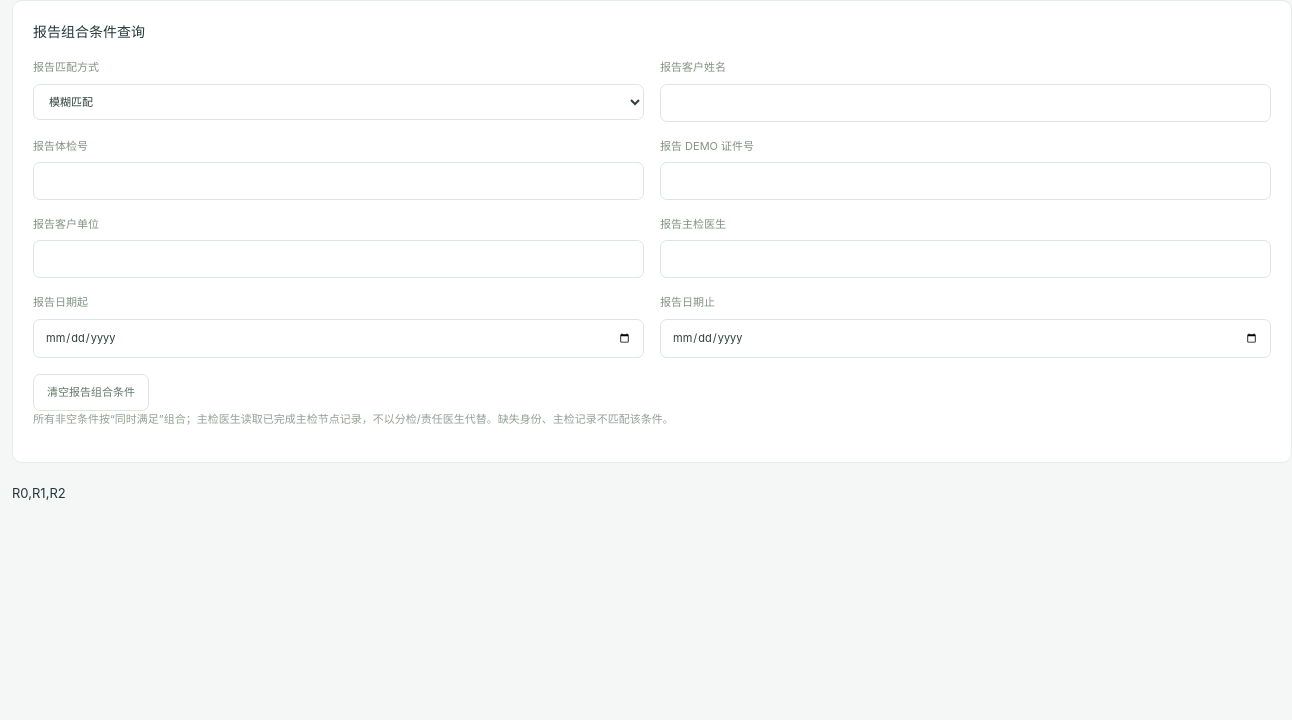
Test case: T0336/T0340/T0350 exact and fuzzy report queries › search controls update a real list, clear filters and show invalid date ranges
Type "TWO" into the field labelled "报告 DEMO 证件号" at (966, 181), box x1=660 y1=162 x2=1271 y2=200
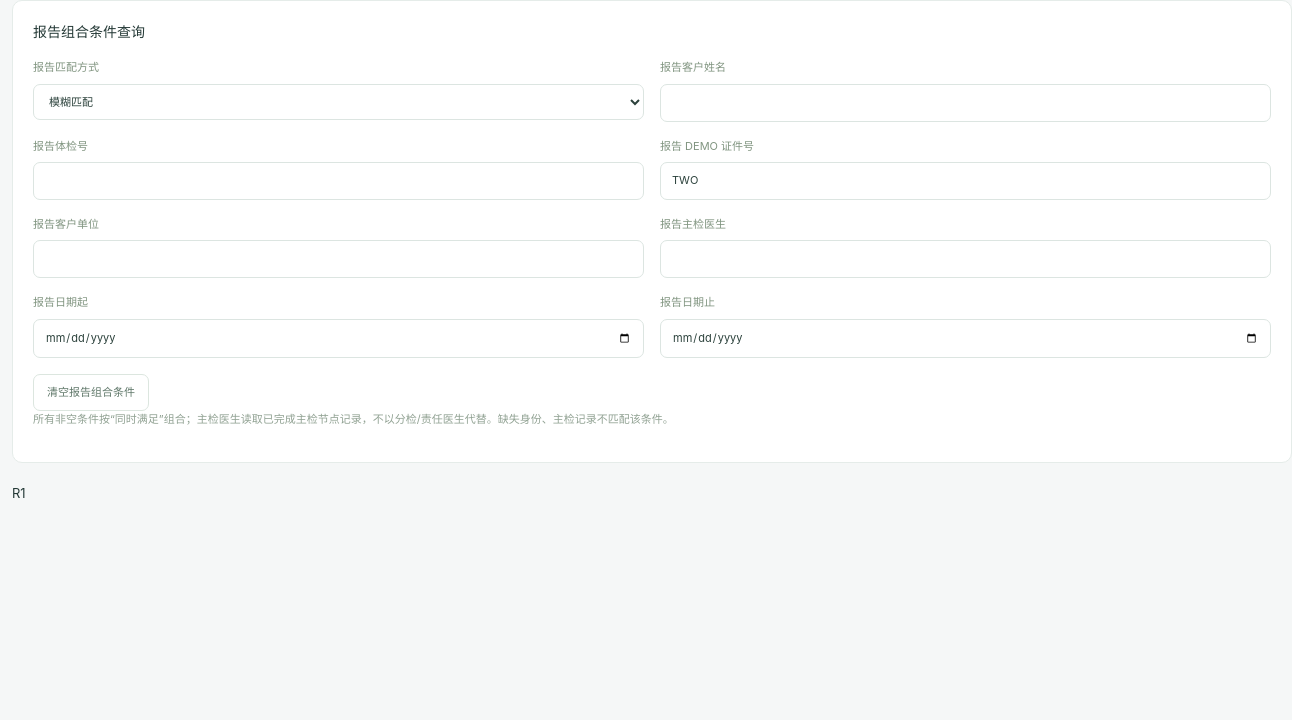
Expected: the text with test id "matches" reads "R1", x1=12 y1=485 x2=26 y2=501
Expected: the text with test id "matches" no longer shows "R0", x1=12 y1=485 x2=26 y2=501
Select "精准匹配" in the dropdown labelled "报告匹配方式" at (338, 102), box x1=33 y1=84 x2=644 y2=120
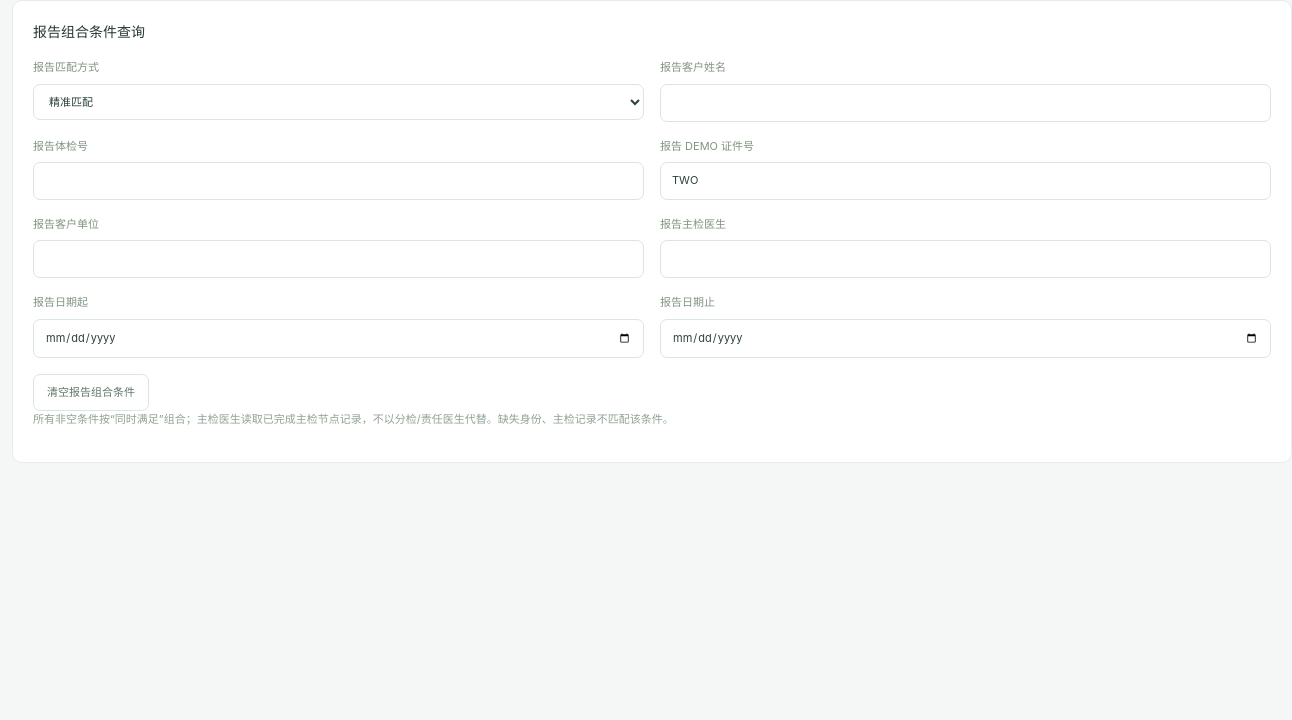
Click the button "清空报告组合条件" at (91, 392), box x1=33 y1=374 x2=149 y2=411
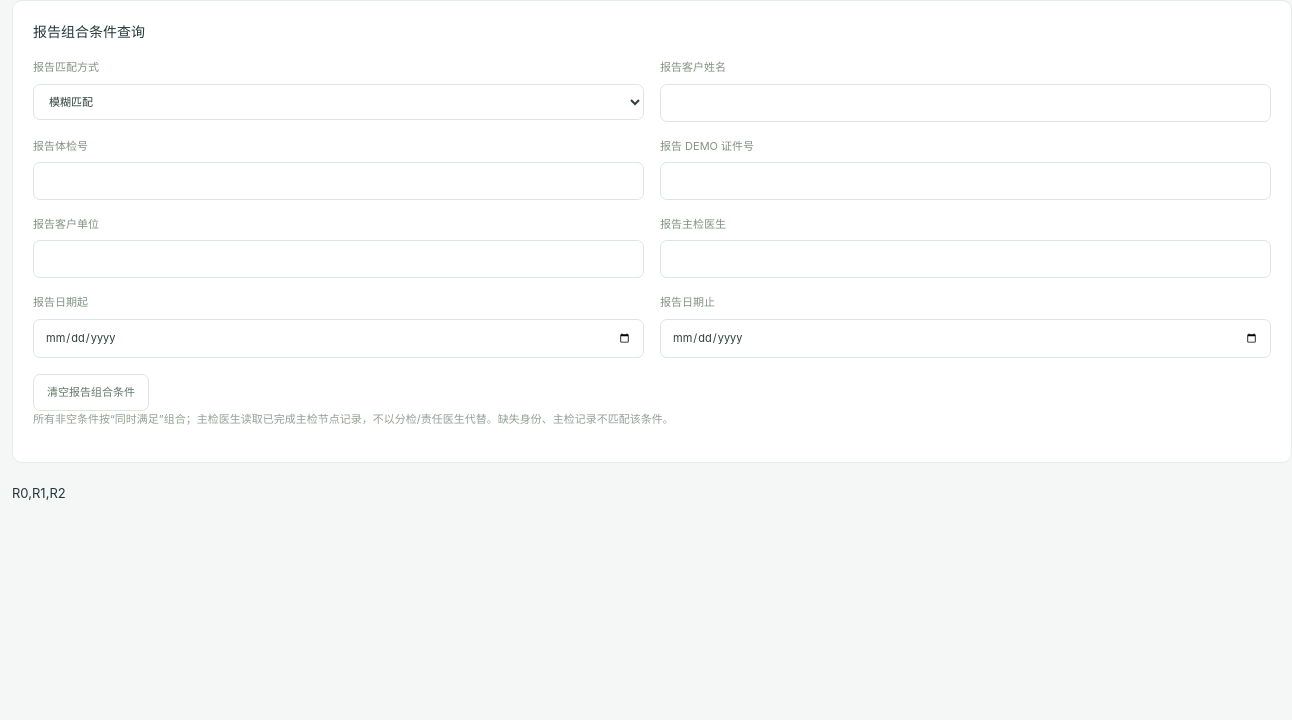
Expected: the text with test id "matches" reads "R0,R1,R2", x1=12 y1=485 x2=66 y2=501
Type "2026-10-15" into the date field labelled "报告日期起" at (338, 338), box x1=33 y1=318 x2=644 y2=358
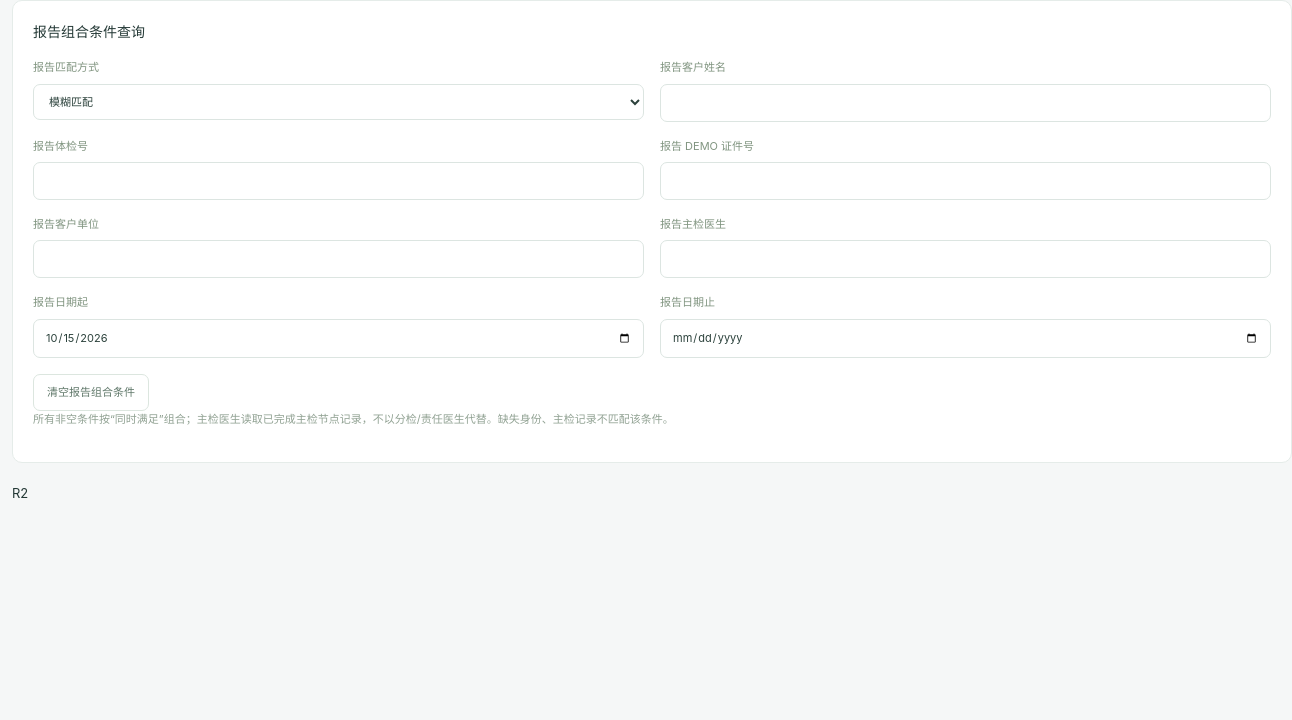
Type "2026-10-13" into the date field labelled "报告日期止" at (966, 338), box x1=660 y1=318 x2=1271 y2=358
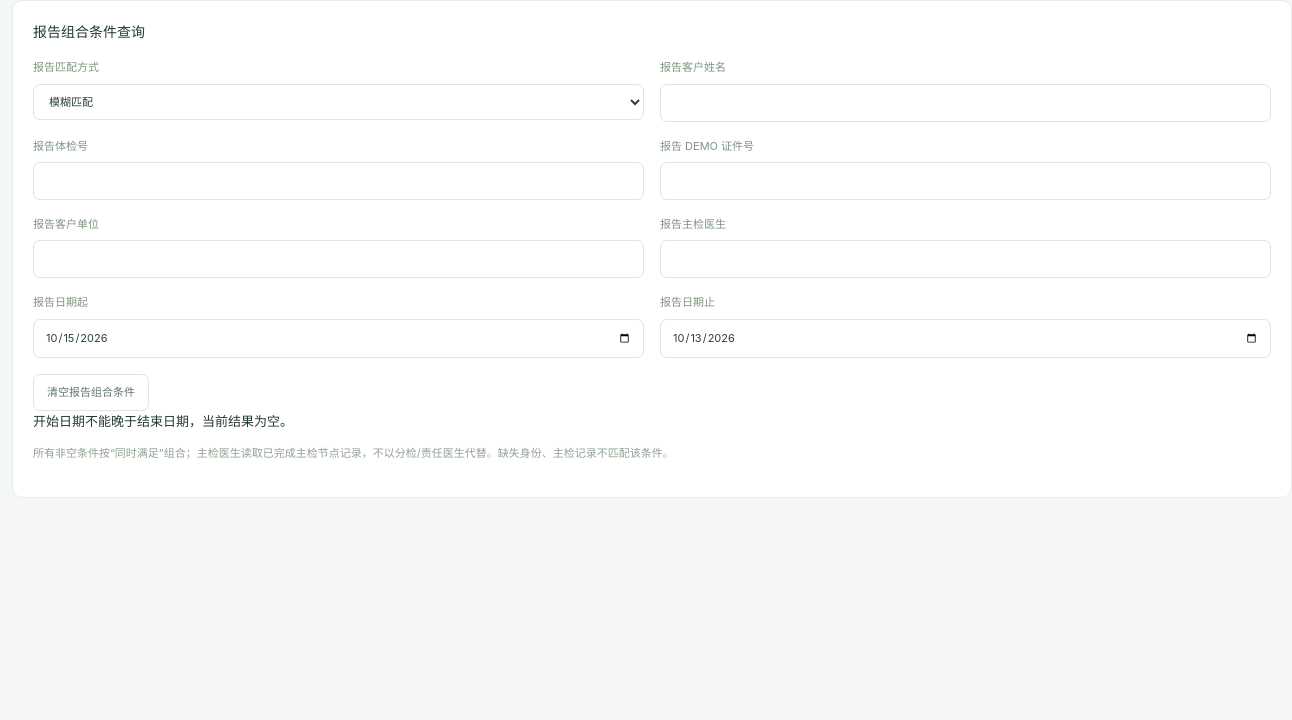
Expected: the message shows "开始日期不能晚于结束日期", x1=33 y1=413 x2=293 y2=429
